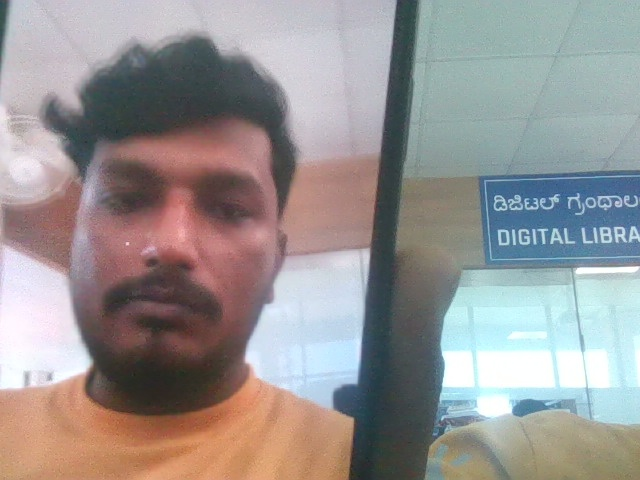fake: (44, 29, 308, 403)
